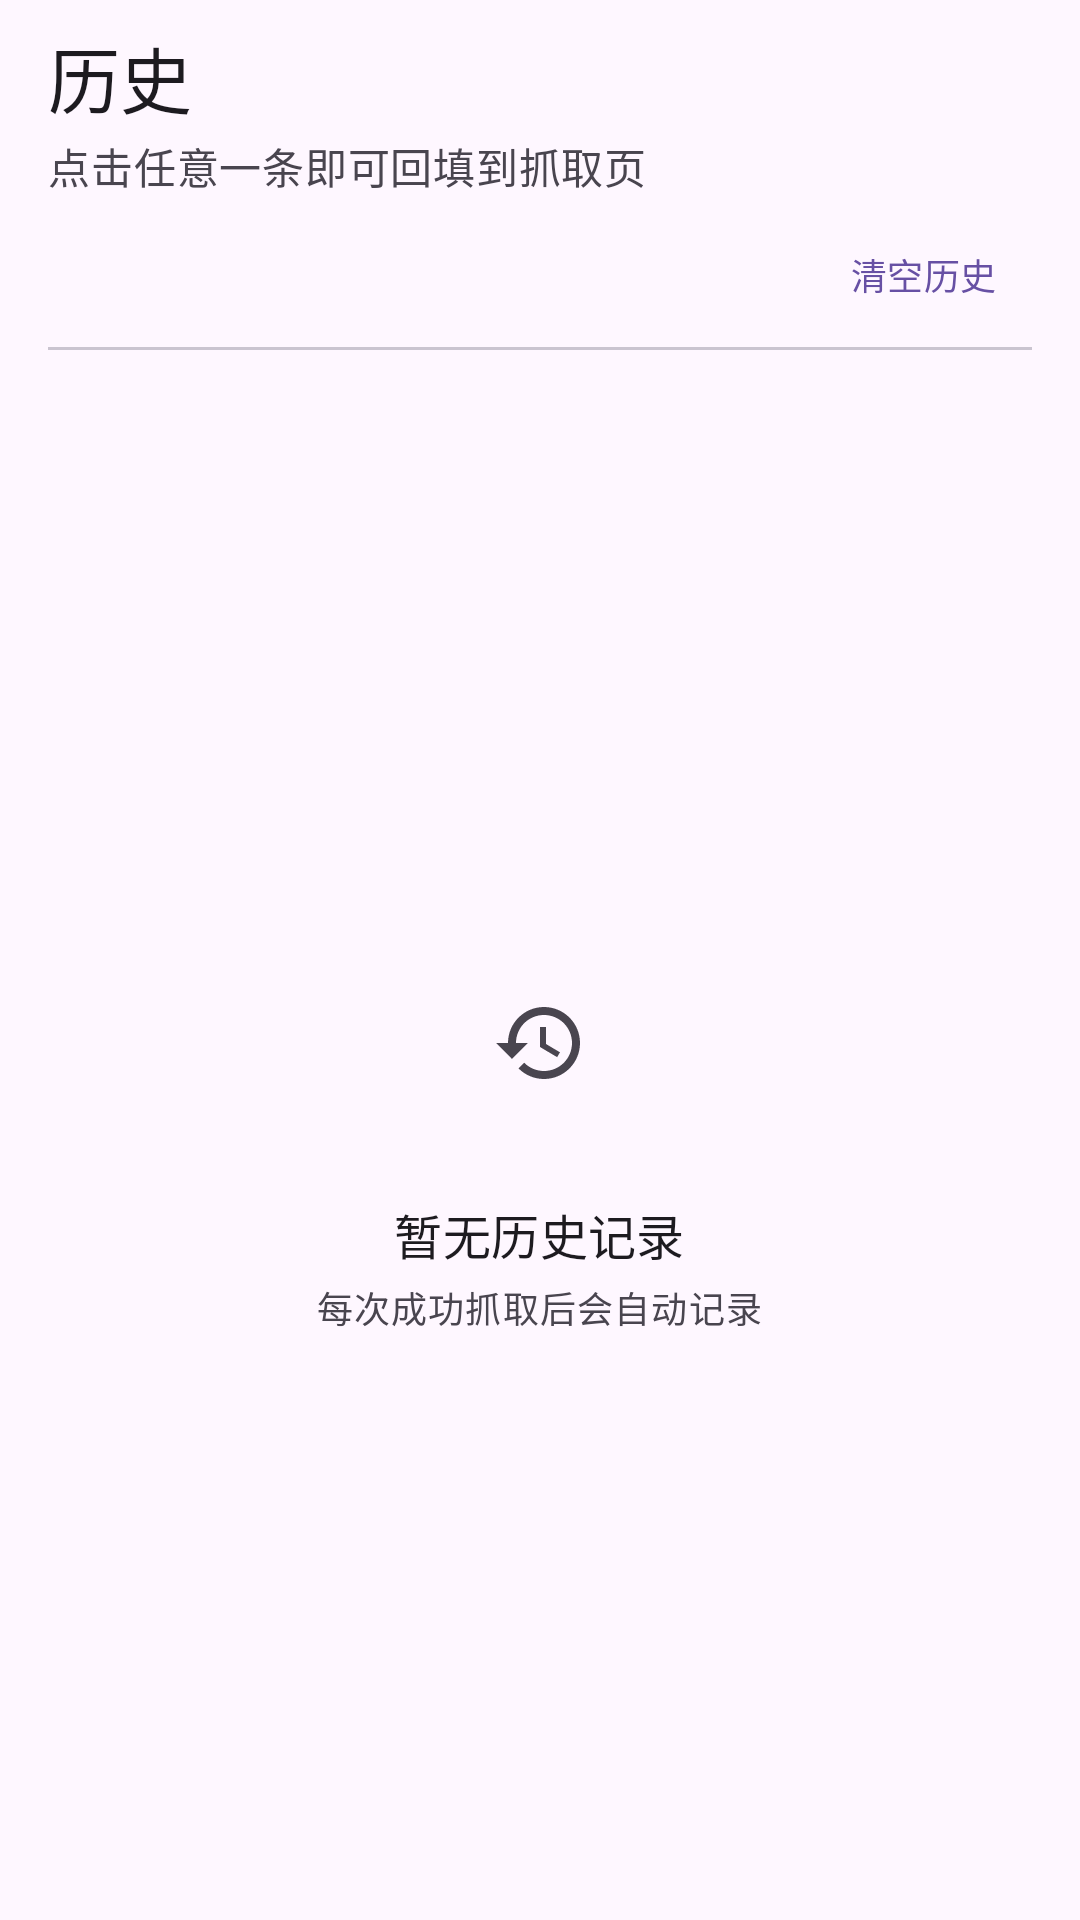

Icons on this 1080*1920 Android screen, each with the point to tap as (x=x, y=y):
history: (x=538, y=1043)
